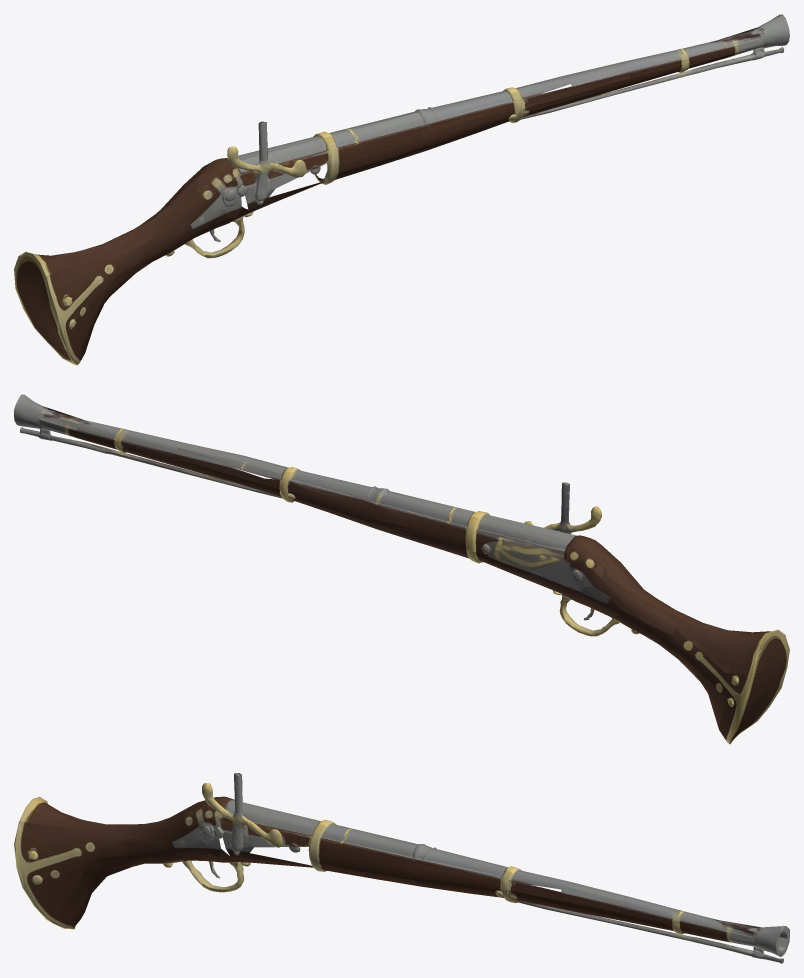
Rendered from matchlock-arquebus-alternative.glb.
The picture shows the model from 3 angles, top to bottom: view 1: azimuth 30°, elevation 25°; view 2: azimuth 150°, elevation 25°; view 3: azimuth 330°, elevation 25°; orthographic projection.
Parts seen in each view (by area): view 1: mesh_node; view 2: mesh_node; view 3: mesh_node.
Boxes of the visible parts, x1=… form: mesh_node: x1=14, y1=14, x2=789, y2=365; mesh_node: x1=14, y1=394, x2=789, y2=744; mesh_node: x1=14, y1=773, x2=789, y2=963.
Bounding box in the file's own units: 1.35 × 0.3546 × 0.1312.
Materials: 1 (1 with a texture image).
